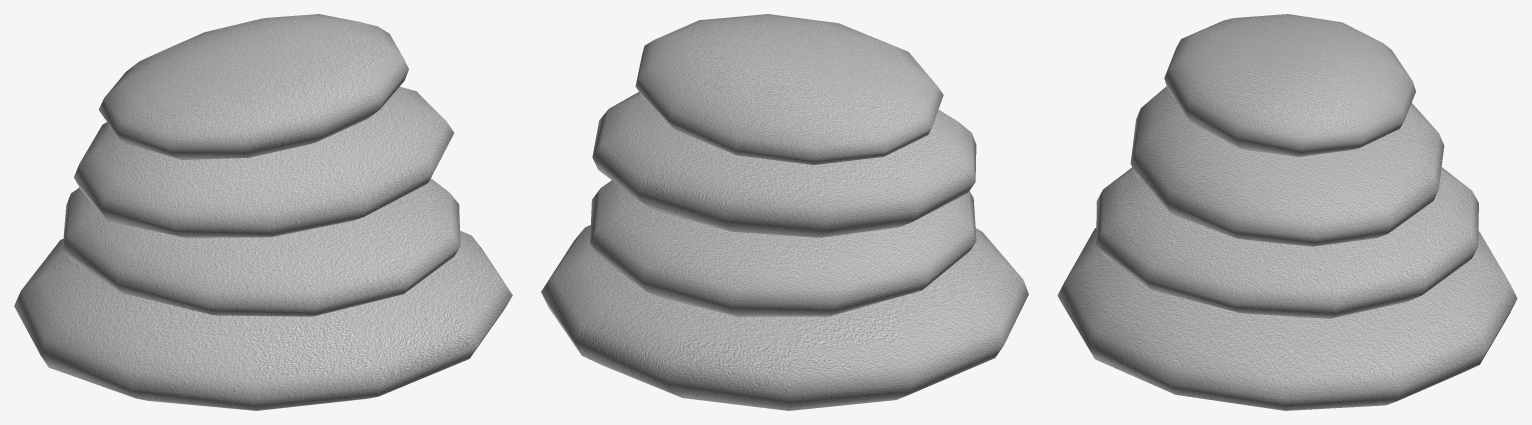
File: piedraTotem.fbx
3 renders of one model, left to right at view 1: azimuth 30°, elevation 25°; view 2: azimuth 150°, elevation 25°; view 3: azimuth 270°, elevation 25°, orthographic. The views are drawn at different scales.
Parts seen in each view (by area): view 1: Sphere, Sphere.003, Sphere.001, Sphere.002; view 2: Sphere, Sphere.003, Sphere.002, Sphere.001; view 3: Sphere, Sphere.001, Sphere.002, Sphere.003.
Part boxes in pixels (x1,y1,x2,y2): Sphere: (14, 230, 512, 410); Sphere.003: (99, 14, 408, 159); Sphere.001: (62, 178, 460, 316); Sphere.002: (74, 86, 454, 237); Sphere: (541, 225, 1028, 410); Sphere.003: (635, 14, 943, 164); Sphere.002: (592, 92, 976, 237); Sphere.001: (590, 180, 976, 316); Sphere: (1057, 228, 1517, 410); Sphere.001: (1096, 167, 1478, 318); Sphere.002: (1130, 86, 1444, 246); Sphere.003: (1164, 14, 1415, 156).
Bounding box in the file's own units: 141 × 93.6 × 130.
